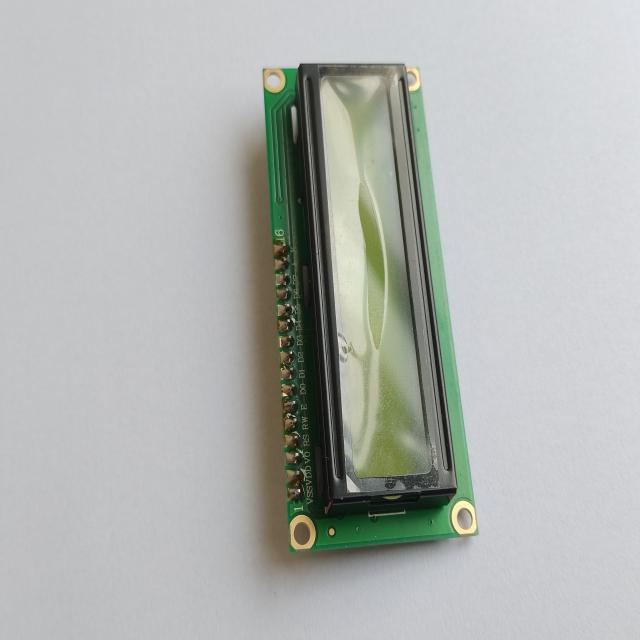lcd: (261, 61, 479, 554)
